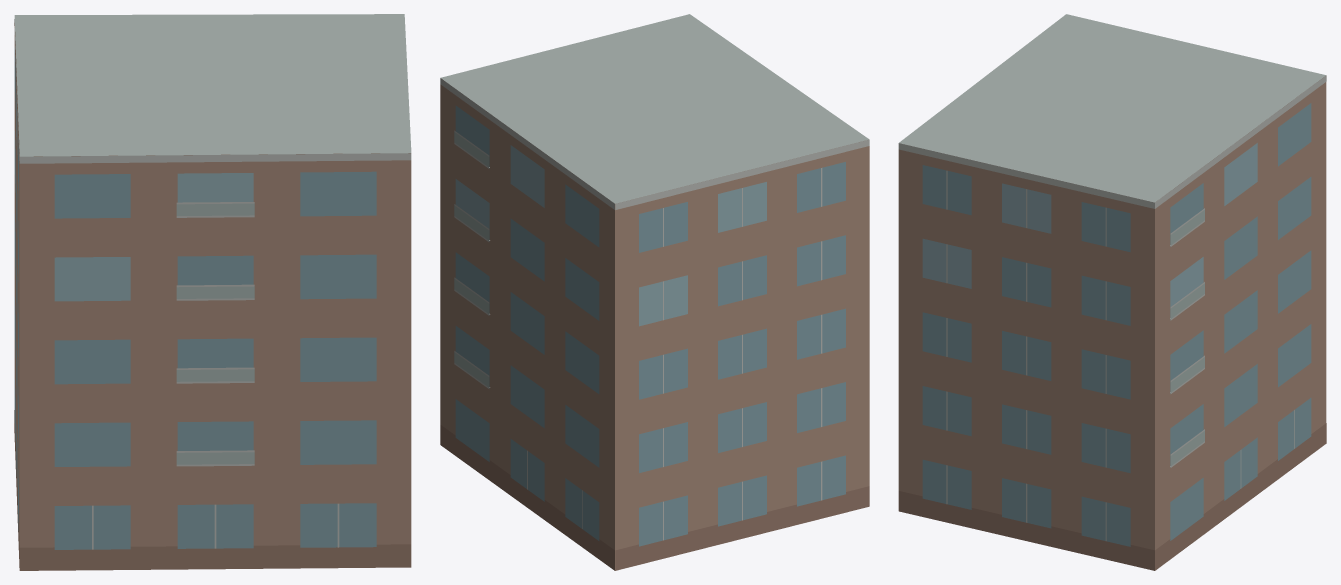
File: survey-upis-32886242.glb
The picture shows the model from 3 angles, left to right: view 1: azimuth 30°, elevation 25°; view 2: azimuth 150°, elevation 25°; view 3: azimuth 270°, elevation 25°; orthographic projection. The views are drawn at different scales.
Visible parts, largest first — view 1: survey-upis-32886242.tmp; view 2: survey-upis-32886242.tmp; view 3: survey-upis-32886242.tmp.
Boxes of the visible parts, x1,y1,x2,y2 form: survey-upis-32886242.tmp: (14,14,411,570); survey-upis-32886242.tmp: (440,14,869,570); survey-upis-32886242.tmp: (898,14,1326,570).
Size of the model in its own units: 15.38 by 14 by 14.75.
